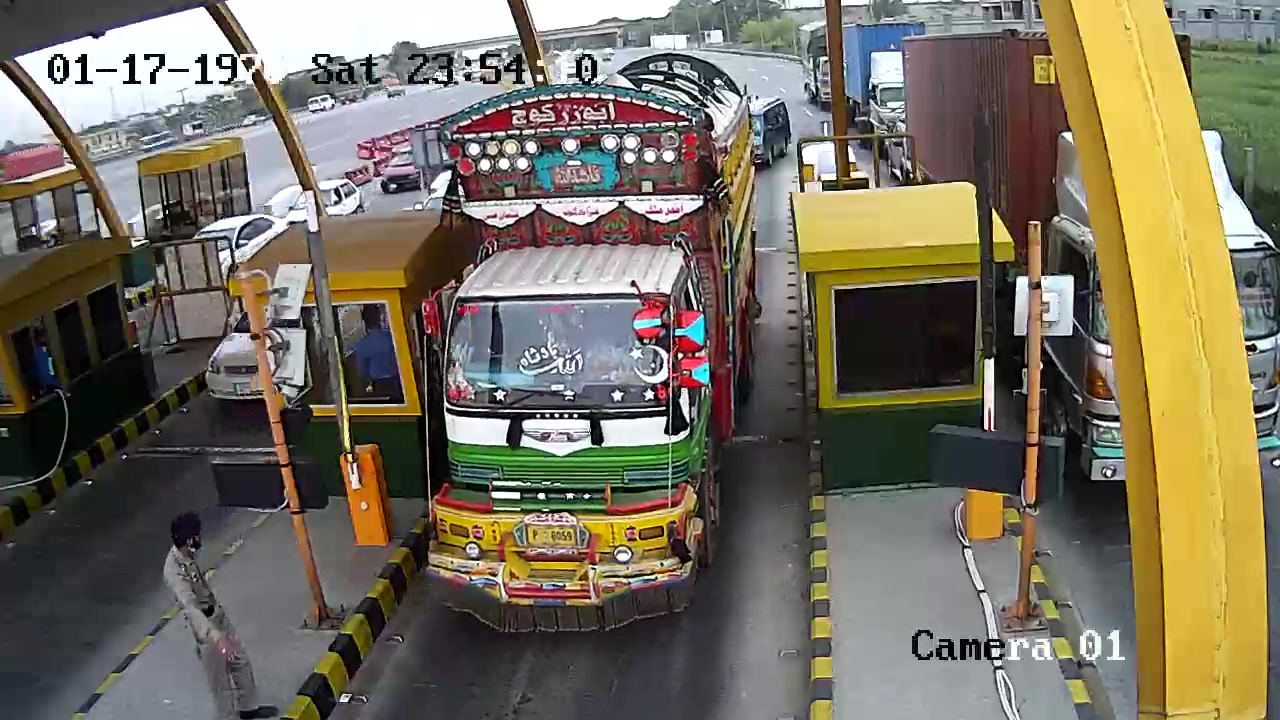F5: (411, 55, 786, 640)
